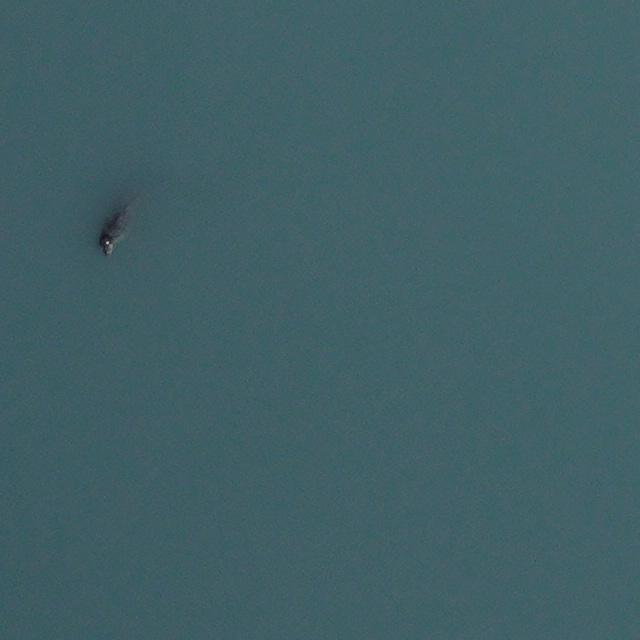seal: (88, 187, 143, 261)
